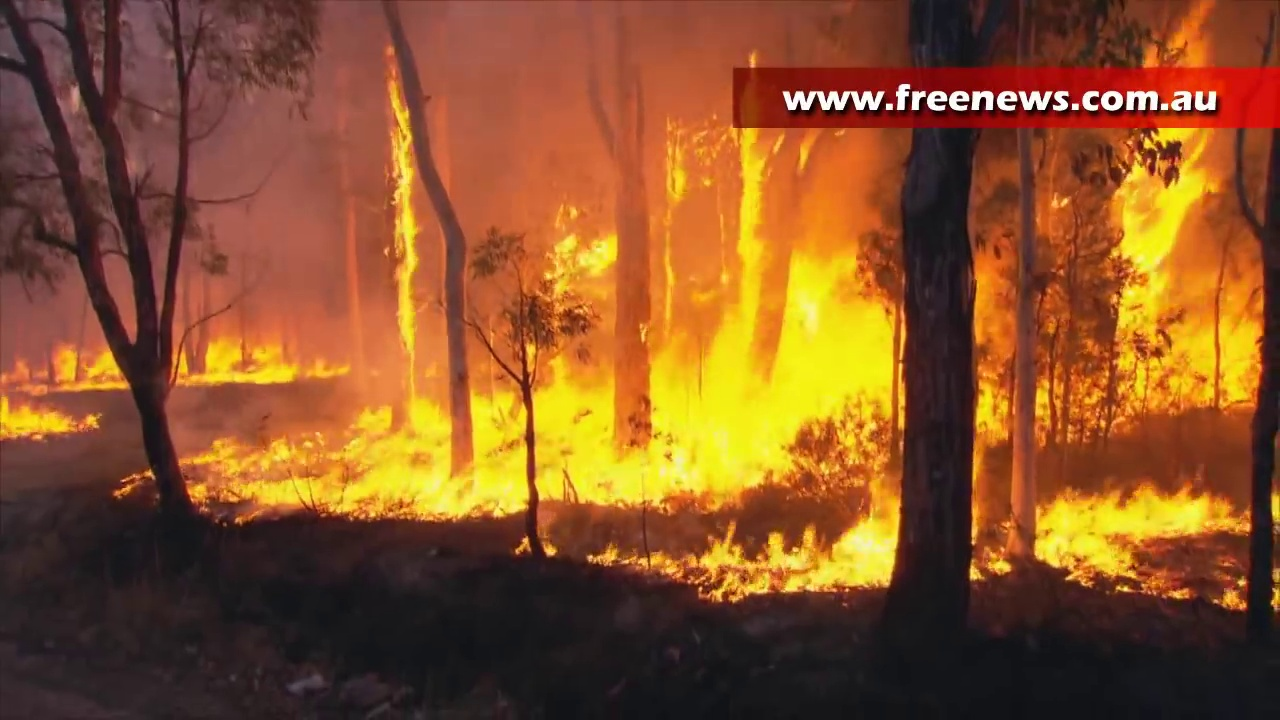fire: (219, 263, 905, 515), (1048, 298, 1258, 423), (1032, 483, 1245, 605), (600, 528, 890, 600), (1125, 128, 1203, 293), (383, 85, 414, 346), (197, 338, 310, 384), (12, 343, 117, 389), (737, 133, 761, 302), (5, 400, 96, 434), (547, 230, 613, 274), (656, 119, 685, 202)
